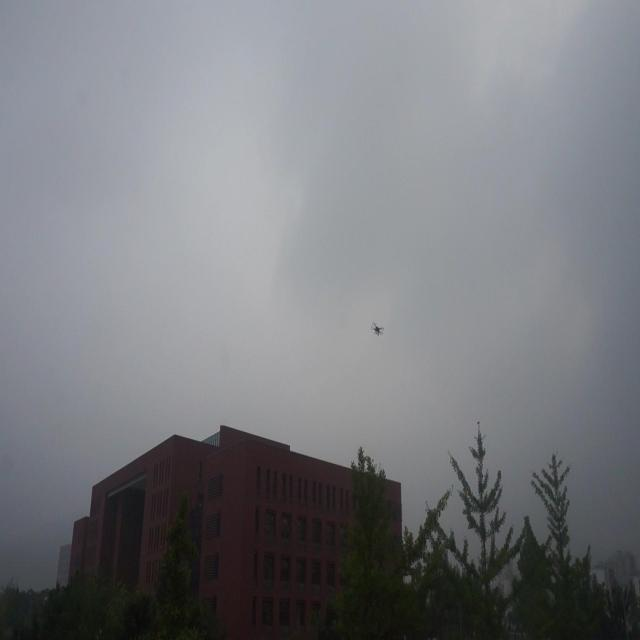drone: (369, 320, 385, 340)
